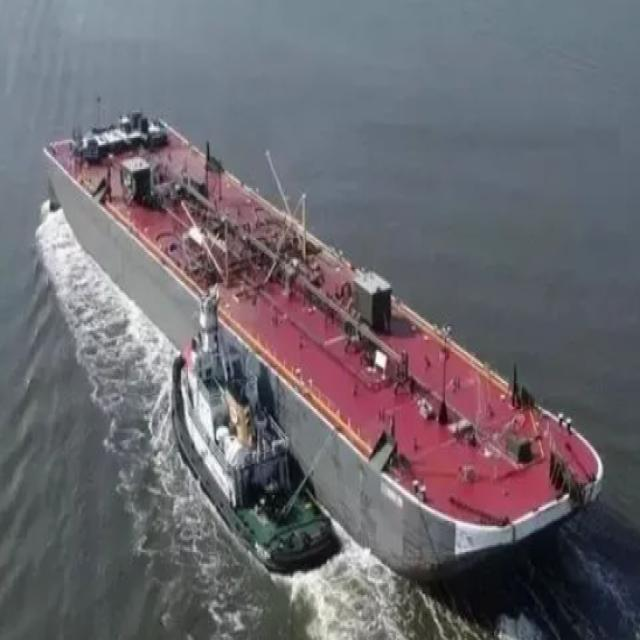navalvessels: (46, 56, 608, 590), (153, 287, 338, 586)
